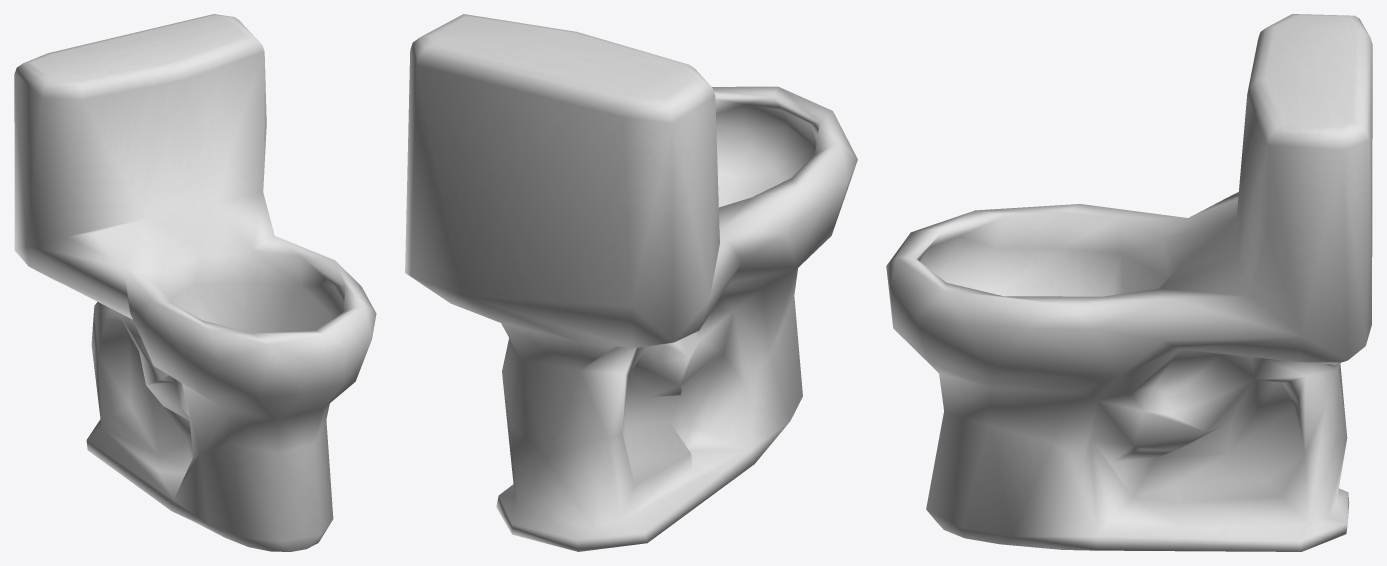
Rendered from Toilet.fbx.
The picture shows the model from 3 angles, left to right: view 1: azimuth 30°, elevation 25°; view 2: azimuth 150°, elevation 25°; view 3: azimuth 270°, elevation 25°; orthographic projection. The views are drawn at different scales.
Visible parts, largest first — view 1: propToilet; view 2: propToilet; view 3: propToilet.
Part boxes in pixels (x1,y1,x2,y2): propToilet: (14,14,376,551); propToilet: (405,14,857,551); propToilet: (886,14,1372,551).
Size of the model in its own units: 52.7 by 83.85 by 82.28.
1 material, 1 textured.
